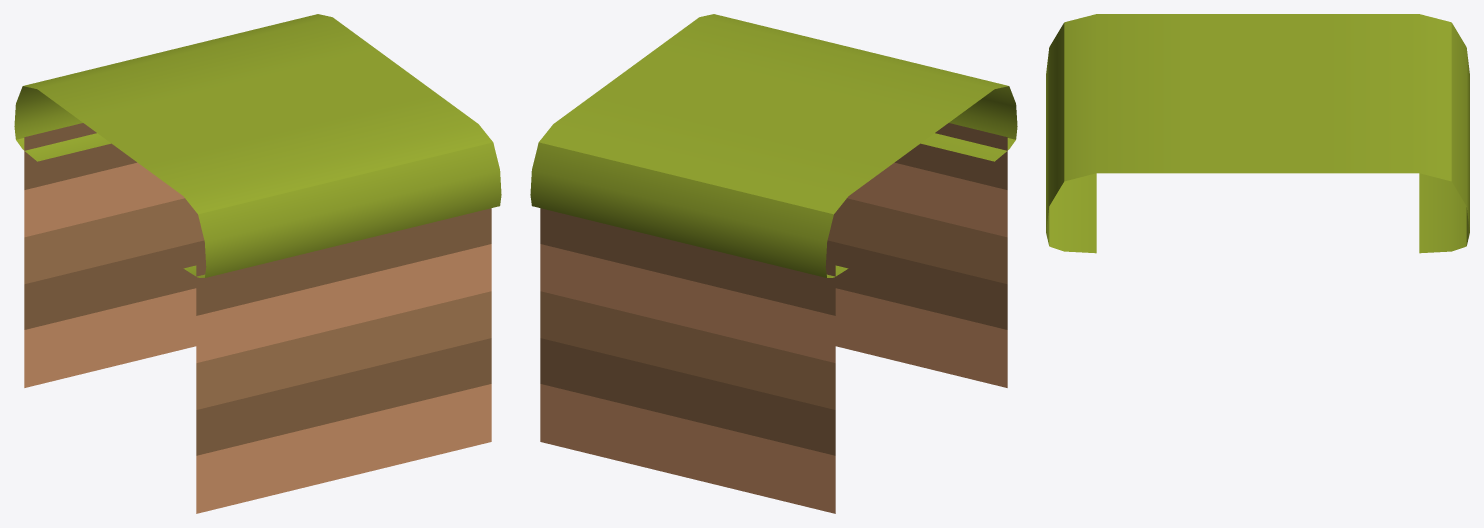
File: RevvCube_Grass_Side_Tall.fbx
3 renders of one model, left to right at view 1: azimuth 30°, elevation 25°; view 2: azimuth 150°, elevation 25°; view 3: azimuth 270°, elevation 25°, orthographic. The views are drawn at different scales.
Parts seen in each view (by area): view 1: Cube_Grass_Side_Tall; view 2: Cube_Grass_Side_Tall; view 3: Cube_Grass_Side_Tall.
Part boxes in pixels (x1,y1,x2,y2): Cube_Grass_Side_Tall: [14, 14, 501, 513]; Cube_Grass_Side_Tall: [530, 14, 1017, 513]; Cube_Grass_Side_Tall: [1046, 14, 1469, 253].
Bounding box in the file's own units: 200 × 200 × 225.
